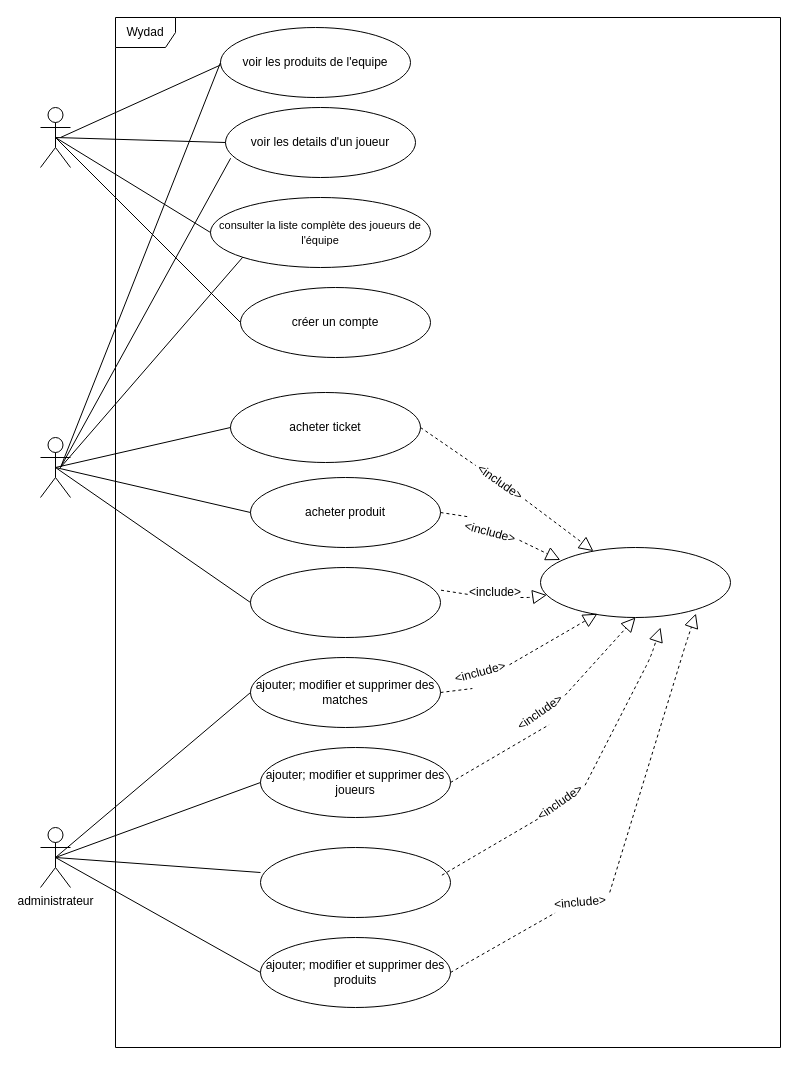
The diagram is 798 pixels wide and 1065 high, and some of its shapes have lost their labels. The shapes that lost their labels are listed below. From the top down, each one's centre as x and y in pixels, then its label:
At pixel 55 137: "utilisateur".
At pixel 55 467: "supporter".
At pixel 345 602: "inspecter les produits et les tickets acheter".
At pixel 635 582: "authentification".
At pixel 355 882: "ajouter; modifier et supprimer des tickets".
